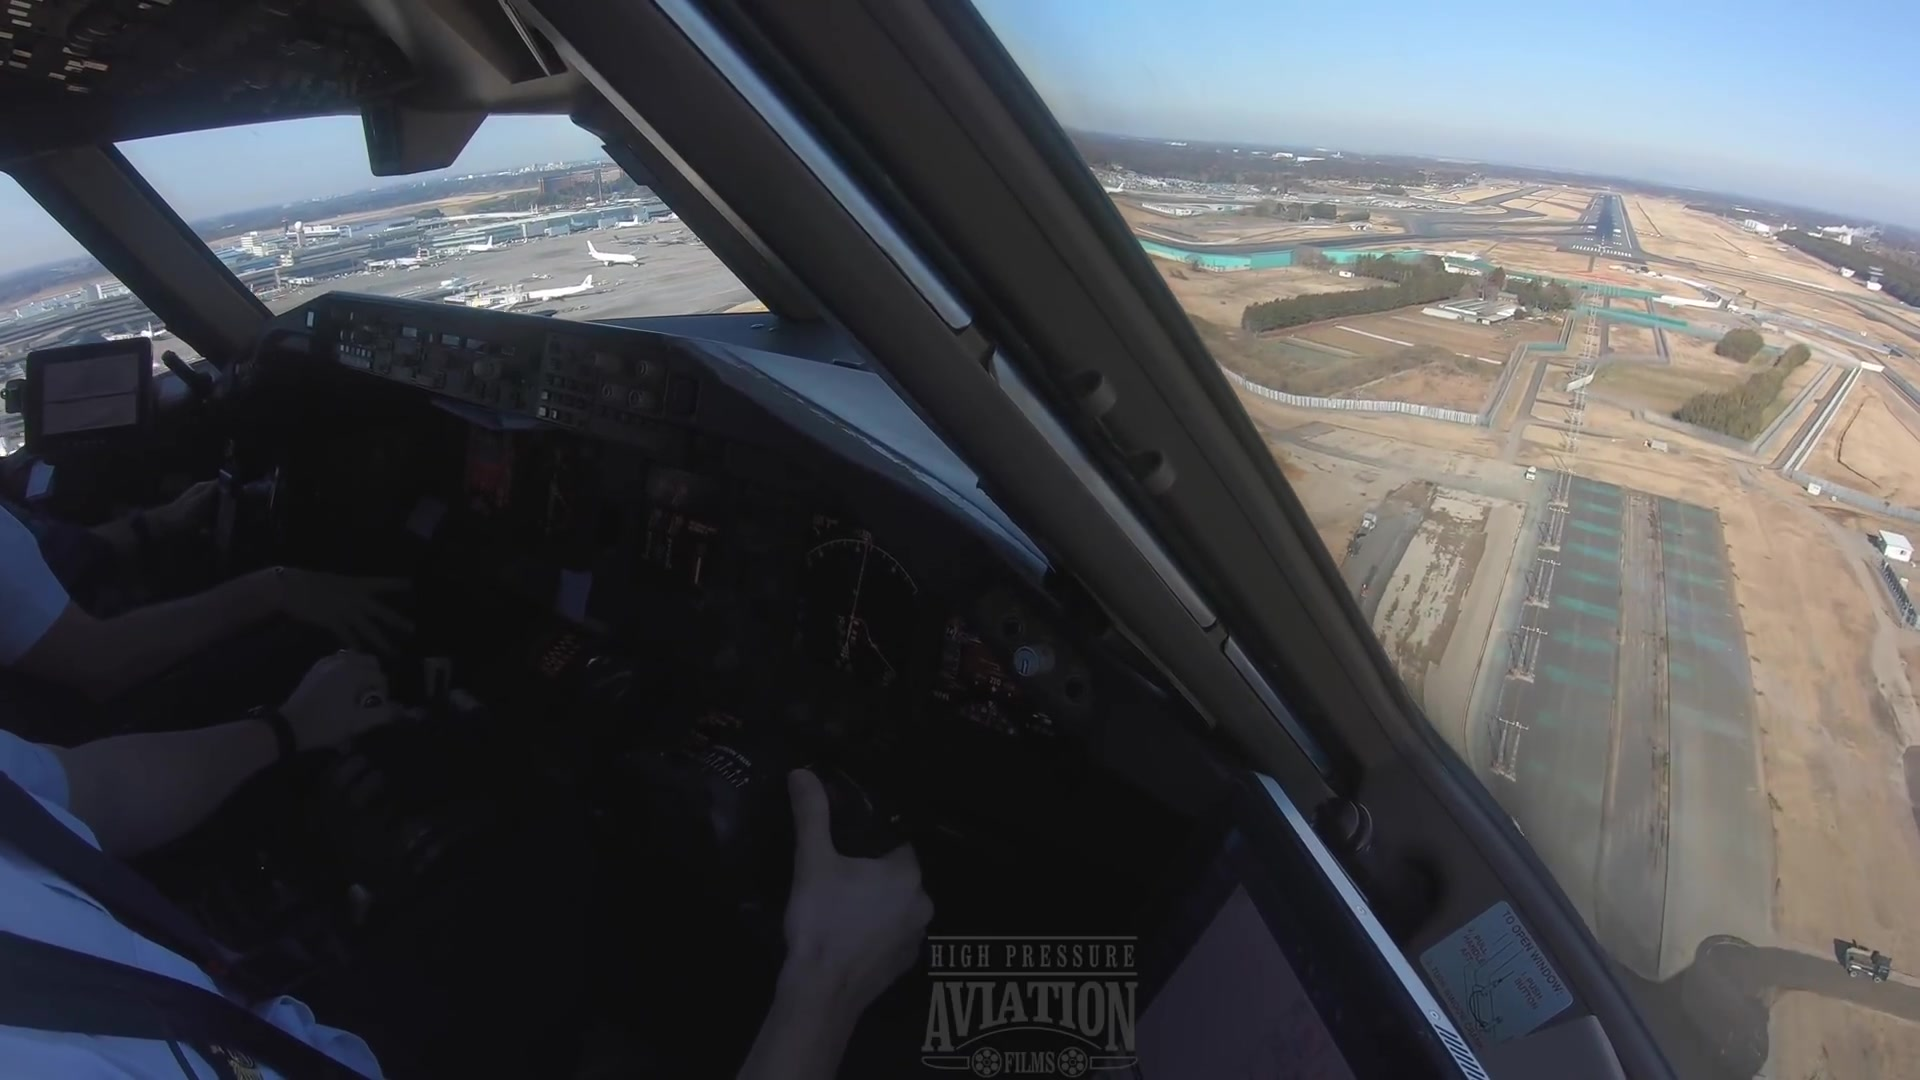entrance: (1567, 243, 1630, 258)
runway: (1553, 194, 1644, 265)
